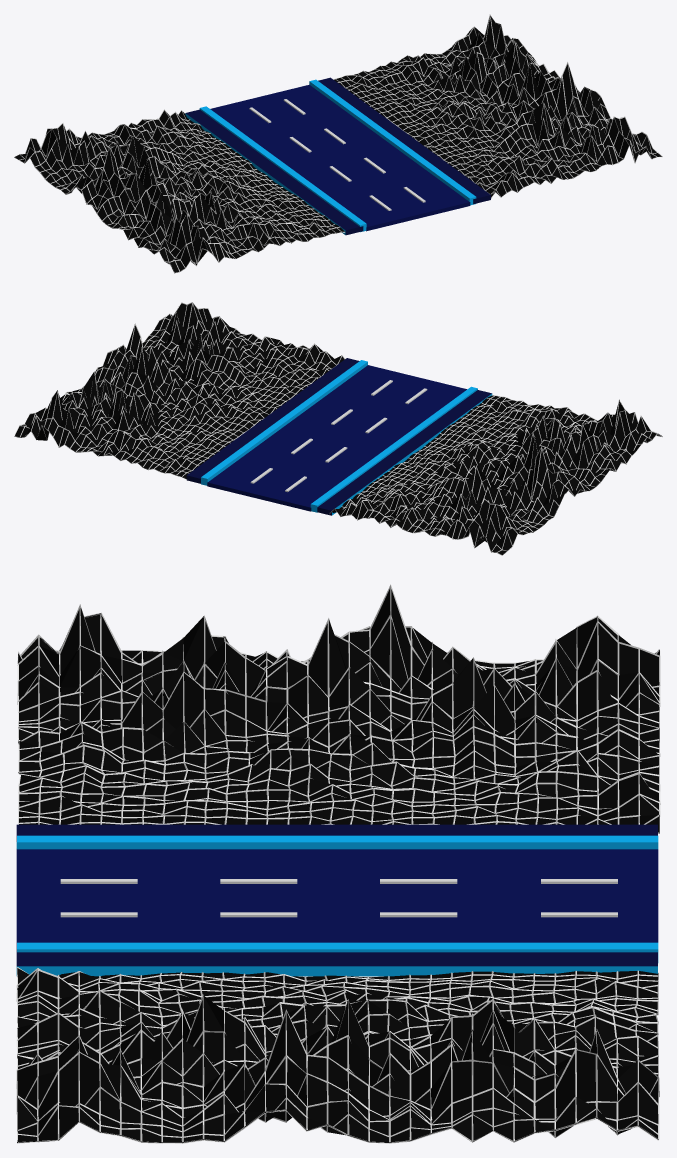
File: new_platform_mountaineSAMPLE_.fbx
3 renders of one model, top to bottom at view 1: azimuth 30°, elevation 25°; view 2: azimuth 150°, elevation 25°; view 3: azimuth 270°, elevation 25°, orthographic. The views are drawn at different scales.
Parts seen in each view (by area): view 1: Plane.001, Plane, Cube, Cube.001; view 2: Plane.001, Plane, Cube, Cube.001, Cube.007; view 3: Plane, Plane.001, Cube, Cube.001, Cube.002, Cube.007.
Part boxes in pixels (x1=…): Plane.001: x1=333, y1=14, x2=662, y2=198; Plane: x1=14, y1=109, x2=344, y2=273; Cube: x1=210, y1=84, x2=470, y2=231; Cube.001: x1=185, y1=77, x2=490, y2=235; Plane.001: x1=14, y1=302, x2=344, y2=479; Plane: x1=329, y1=395, x2=662, y2=555; Cube: x1=207, y1=365, x2=466, y2=511; Cube.001: x1=186, y1=358, x2=492, y2=515; Cube.007: x1=285, y1=388, x2=427, y2=492; Plane: x1=17, y1=584, x2=660, y2=833; Plane.001: x1=16, y1=967, x2=659, y2=1143; Cube: x1=16, y1=849, x2=658, y2=948; Cube.001: x1=16, y1=824, x2=658, y2=976; Cube.002: x1=60, y1=912, x2=617, y2=917; Cube.007: x1=60, y1=879, x2=617, y2=883.
Bounding box in the file's own units: 2812 × 320 × 1604.
